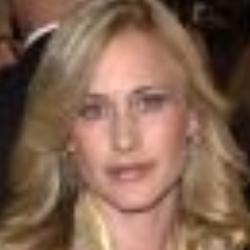face: (12, 1, 240, 237)
